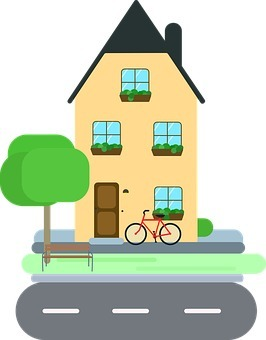bicycle: (119, 208, 188, 246)
chair: (36, 241, 100, 272)
pottedplant: (148, 139, 187, 160), (113, 86, 156, 104), (86, 139, 123, 159), (150, 204, 184, 223)
